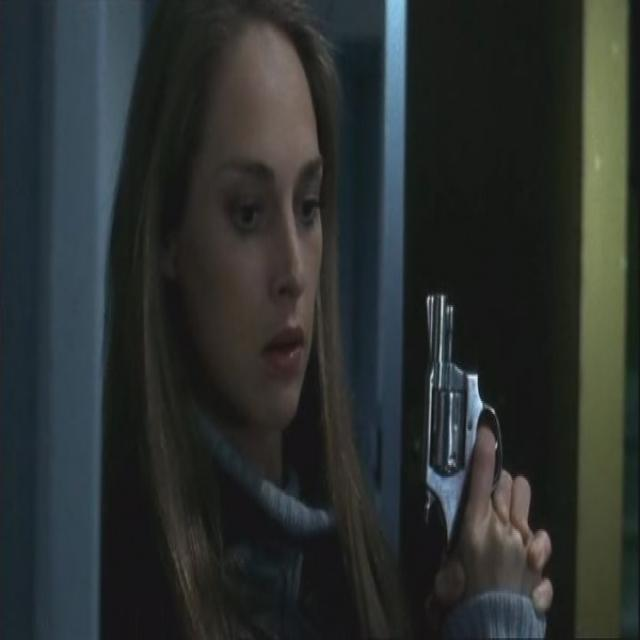weapons: (410, 265, 546, 616)
